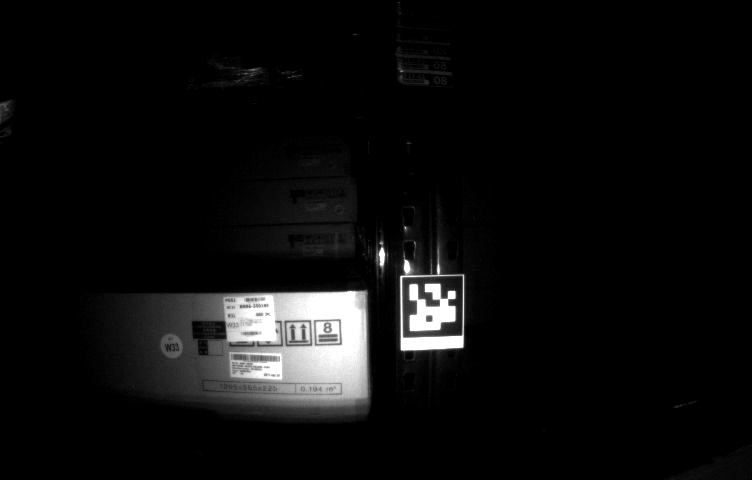True Barcode: (224, 297, 275, 342)
